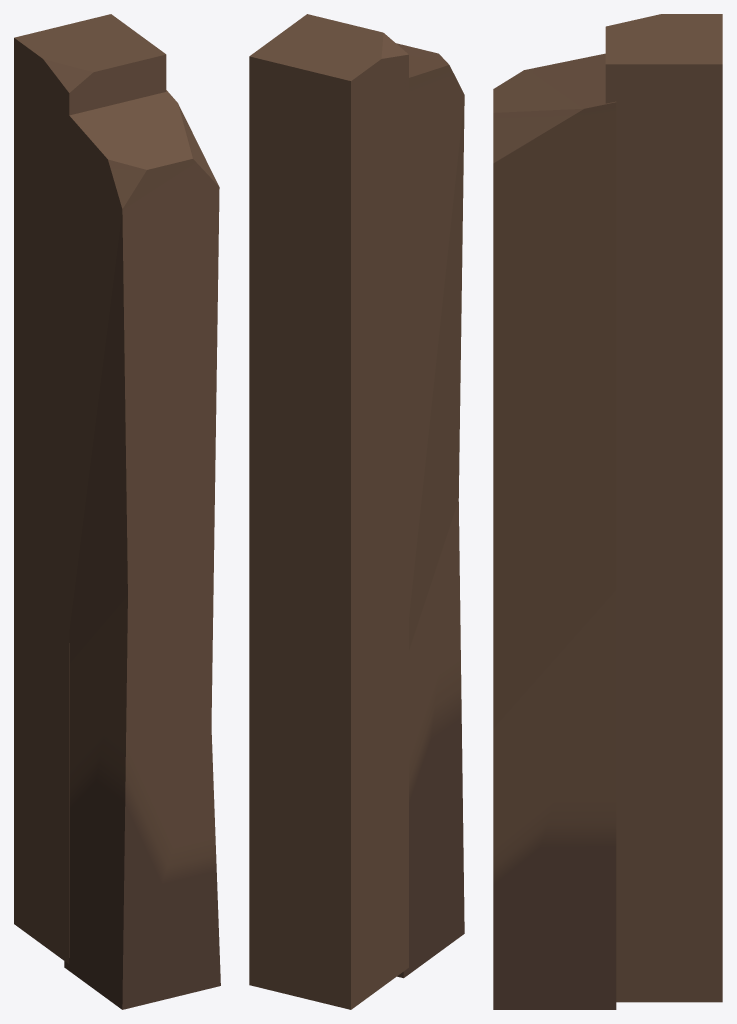
Rendered from SM_Bld_Retainer_Wall_01_Tall_Corner.fbx.
3 renders of one model, left to right at view 1: azimuth 30°, elevation 25°; view 2: azimuth 150°, elevation 25°; view 3: azimuth 270°, elevation 25°, orthographic. The views are drawn at different scales.
Parts seen in each view (by area): view 1: SM_Bld_Retainer_Wall_01_Tall_Corner; view 2: SM_Bld_Retainer_Wall_01_Tall_Corner; view 3: SM_Bld_Retainer_Wall_01_Tall_Corner.
Part boxes in pixels (x1,y1,x2,y2): SM_Bld_Retainer_Wall_01_Tall_Corner: [14, 14, 220, 1009]; SM_Bld_Retainer_Wall_01_Tall_Corner: [249, 14, 464, 1009]; SM_Bld_Retainer_Wall_01_Tall_Corner: [493, 14, 722, 1009].
Bounding box in the file's own units: 12.55 × 109 × 23.92.
